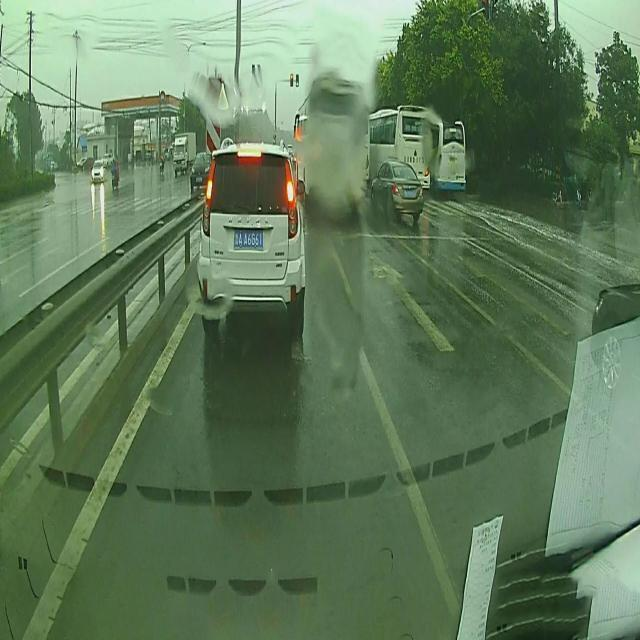car: (196, 140, 304, 336), (370, 163, 423, 224), (90, 158, 108, 185)
